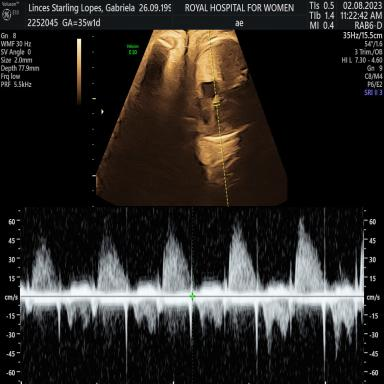Ultrasound-Waves: (28, 208, 359, 384)
